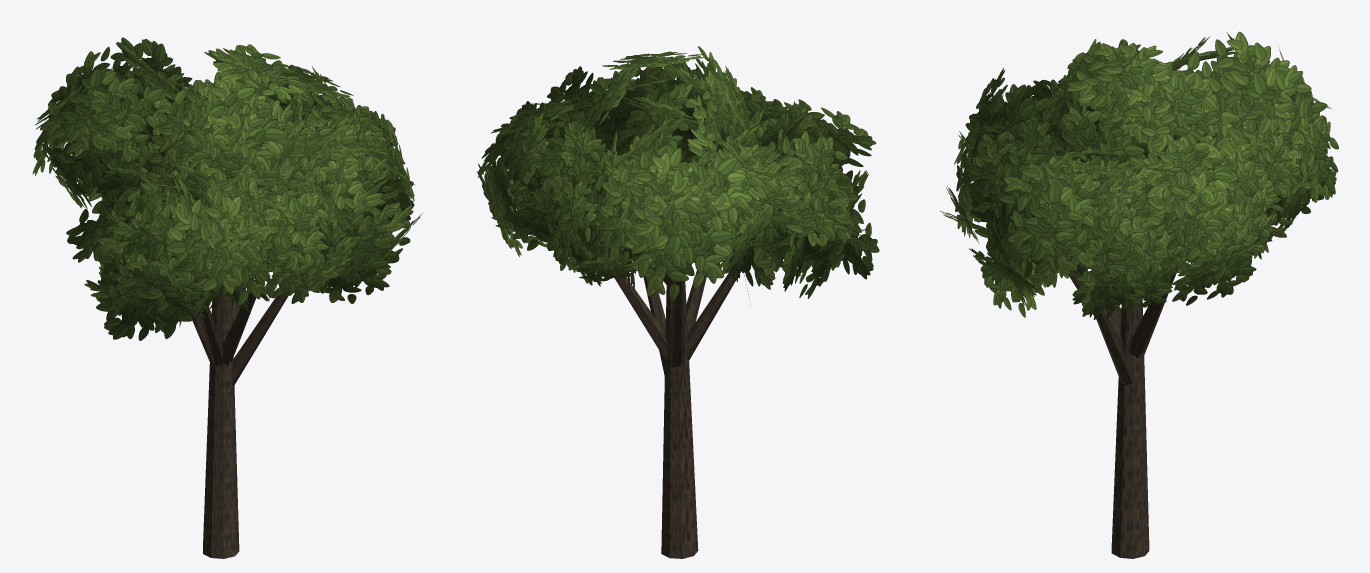
Rendered from quercia_1.glb.
The picture shows the model from 3 angles, left to right: view 1: azimuth 30°, elevation 25°; view 2: azimuth 150°, elevation 25°; view 3: azimuth 270°, elevation 25°; orthographic projection. The views are drawn at different scales.
Parts seen in each view (by area): view 1: quercia_1; view 2: quercia_1; view 3: quercia_1.
Part boxes in pixels (<box>): quercia_1: <box>32,37,422,558</box>; quercia_1: <box>477,46,879,558</box>; quercia_1: <box>940,31,1338,558</box>.
Size of the model in its own units: 9.22 by 12.27 by 9.05.
Materials: 2 (2 with a texture image).
